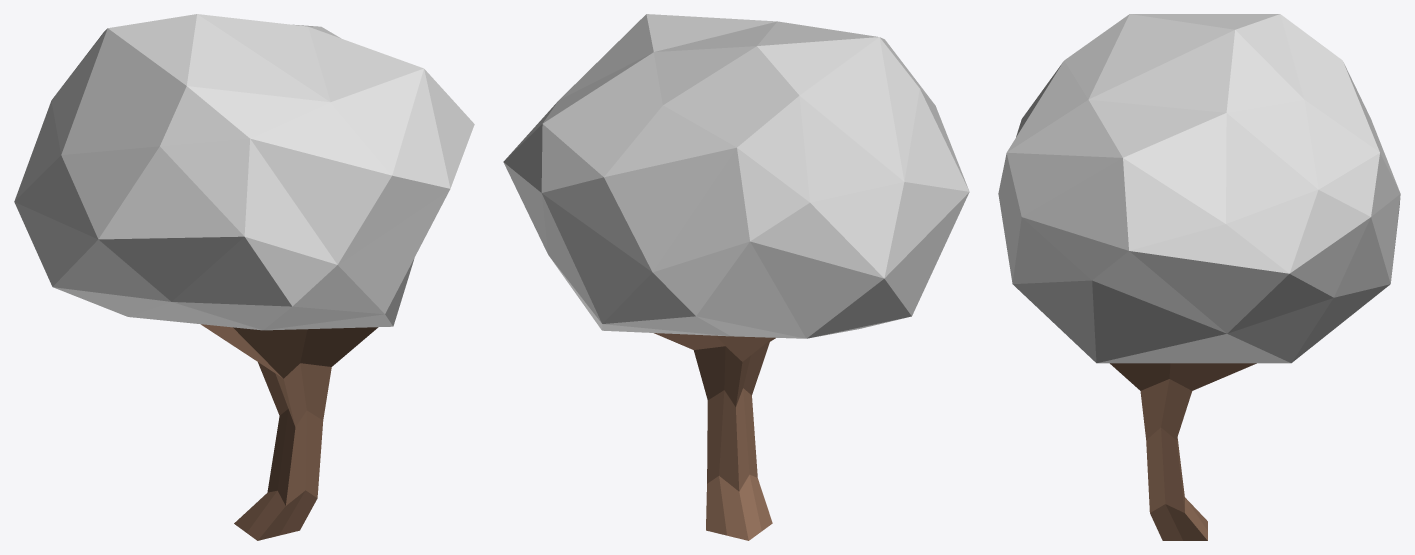
Rendered from Tree_35_White.fbx.
3 views of the same model, side by side, from view 1: azimuth 30°, elevation 25°; view 2: azimuth 150°, elevation 25°; view 3: azimuth 270°, elevation 25° (orthographic). The views are drawn at different scales.
Visible parts, largest first — view 1: Tree_35_White_Part_1, Tree_35_White_Part_2; view 2: Tree_35_White_Part_1, Tree_35_White_Part_2; view 3: Tree_35_White_Part_1, Tree_35_White_Part_2.
Boxes of the visible parts, <box> form: Tree_35_White_Part_1: <box>14,14,474,330</box>; Tree_35_White_Part_2: <box>201,324,377,540</box>; Tree_35_White_Part_1: <box>503,14,969,338</box>; Tree_35_White_Part_2: <box>654,333,775,540</box>; Tree_35_White_Part_1: <box>998,14,1400,363</box>; Tree_35_White_Part_2: <box>1110,363,1256,540</box>.
Bounding box in the file's own units: 636 × 815 × 618.
